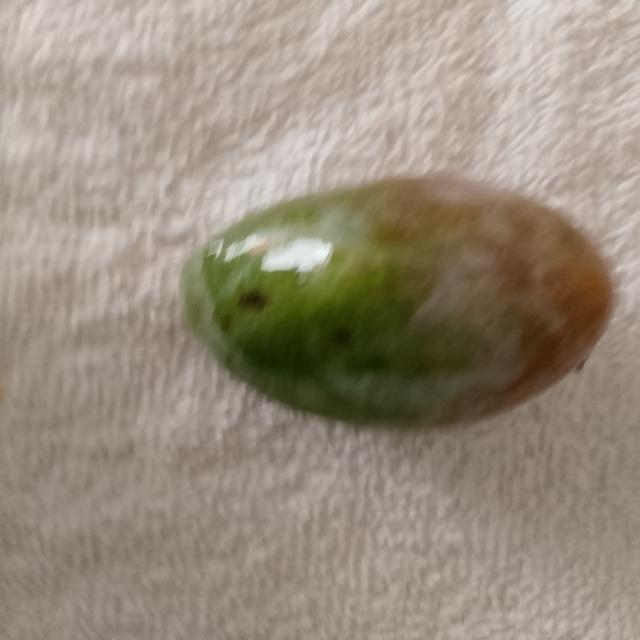mango: (181, 176, 611, 424)
